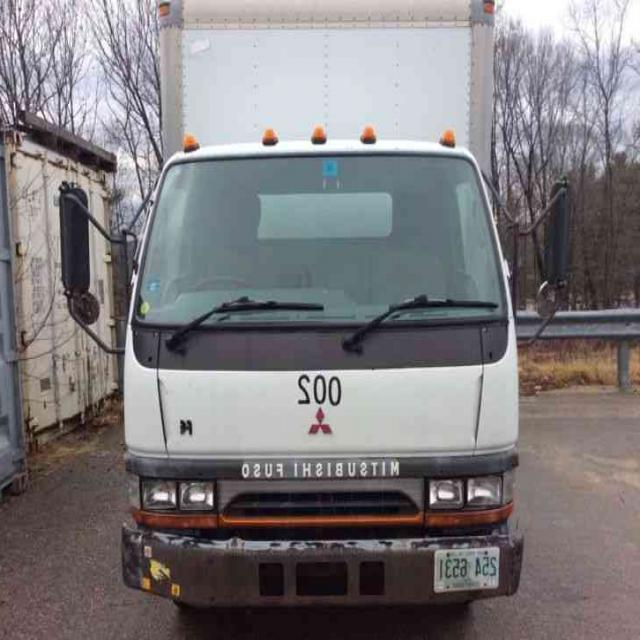truck: (61, 0, 575, 603)
